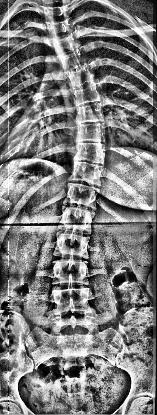Vertebrae: (46, 315, 102, 339), (49, 288, 94, 316), (50, 259, 90, 287), (53, 232, 92, 260), (62, 183, 102, 209), (57, 207, 97, 231), (68, 102, 108, 124), (68, 162, 104, 186), (70, 142, 108, 164), (67, 83, 103, 105), (70, 122, 108, 142), (64, 66, 96, 85), (41, 4, 71, 24), (46, 35, 78, 53), (44, 20, 74, 36), (56, 53, 86, 69)
